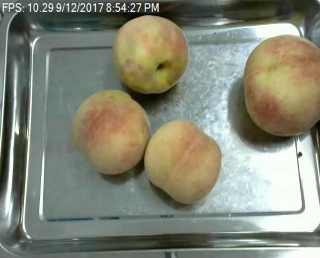Peach: (242, 33, 319, 136), (72, 88, 150, 175), (143, 120, 223, 203), (113, 14, 189, 94)
